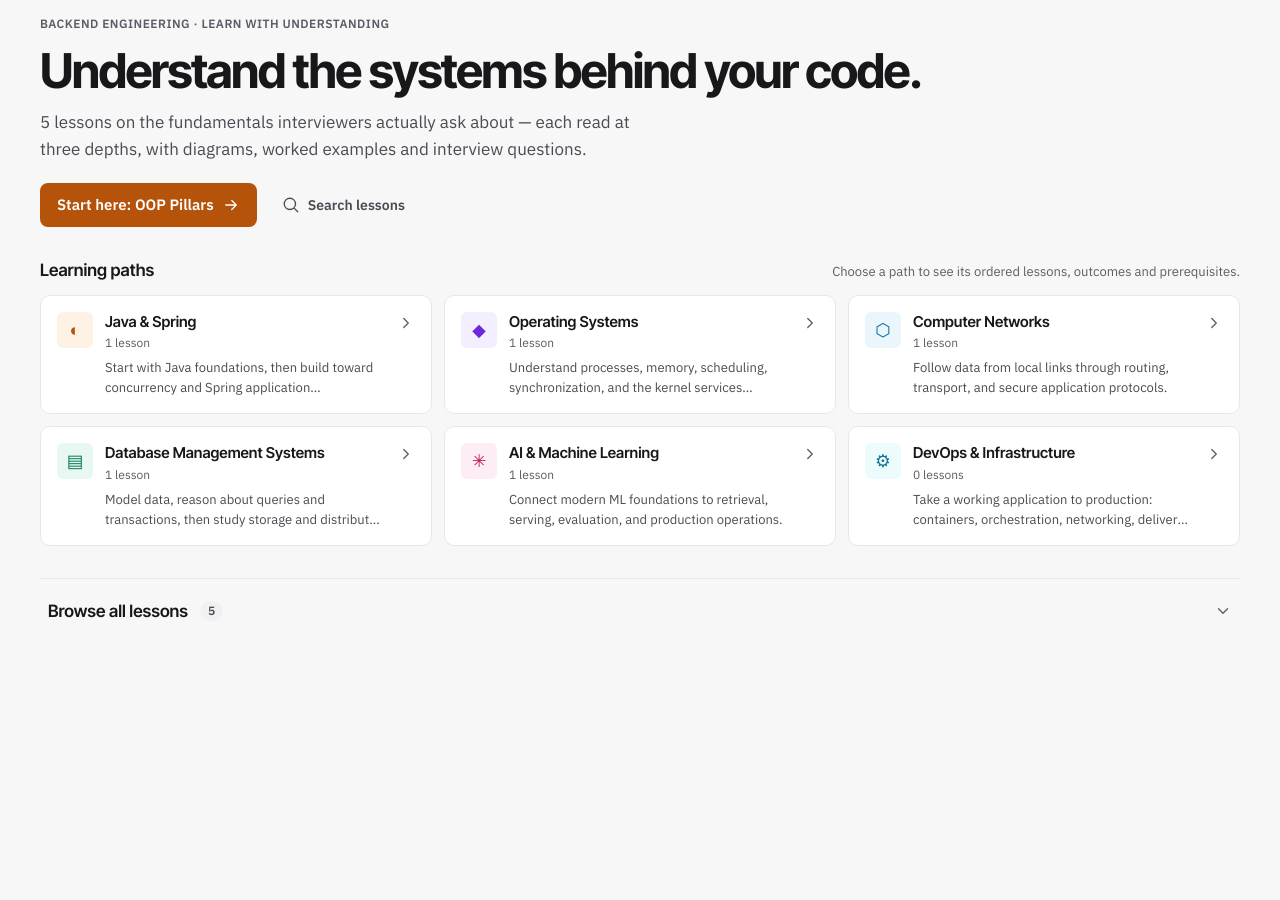
it: HomePage › renders the prioritized roadmap with semantic category controls
The width and height of the screenshot is (1280, 900).
Expected: the heading "Understand the systems behind your code." is shown, [40, 45, 936, 97]
Expected: the text "Backend Engineering · Learn with understanding" is shown, [40, 16, 390, 31]
Click the button "Browse all lessons 5": click(118, 611) [40, 587, 1240, 635]
(page scrolled)
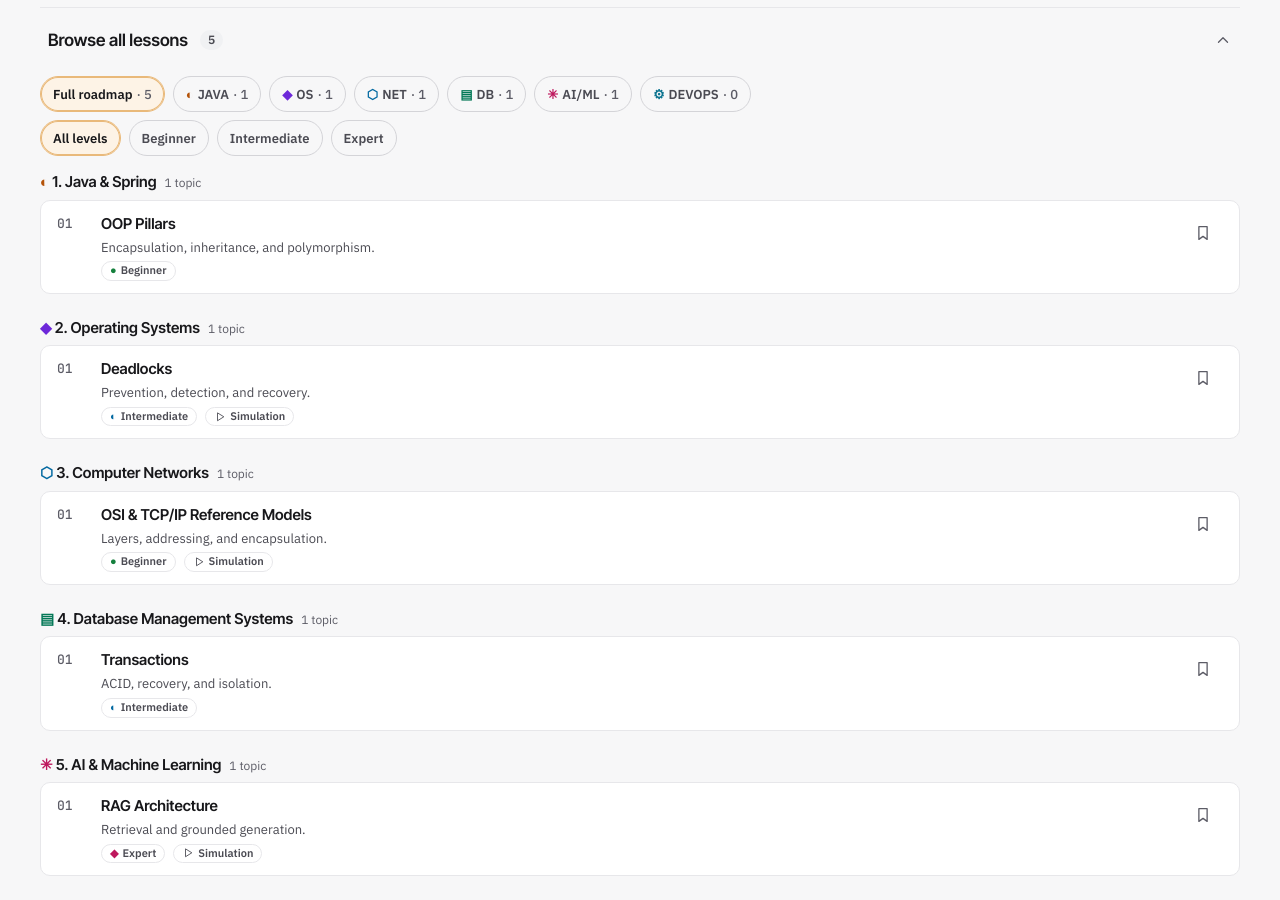
Expected: the link "OOP Pillars" is shown, [101, 214, 176, 233]
Expected: the navigation bar named "Curriculum categories" is shown, [40, 76, 751, 112]
Expected: the button with aria-label "Java & Spring, 1 topic" reads "◐ JAVA · 1", [173, 76, 261, 112]
